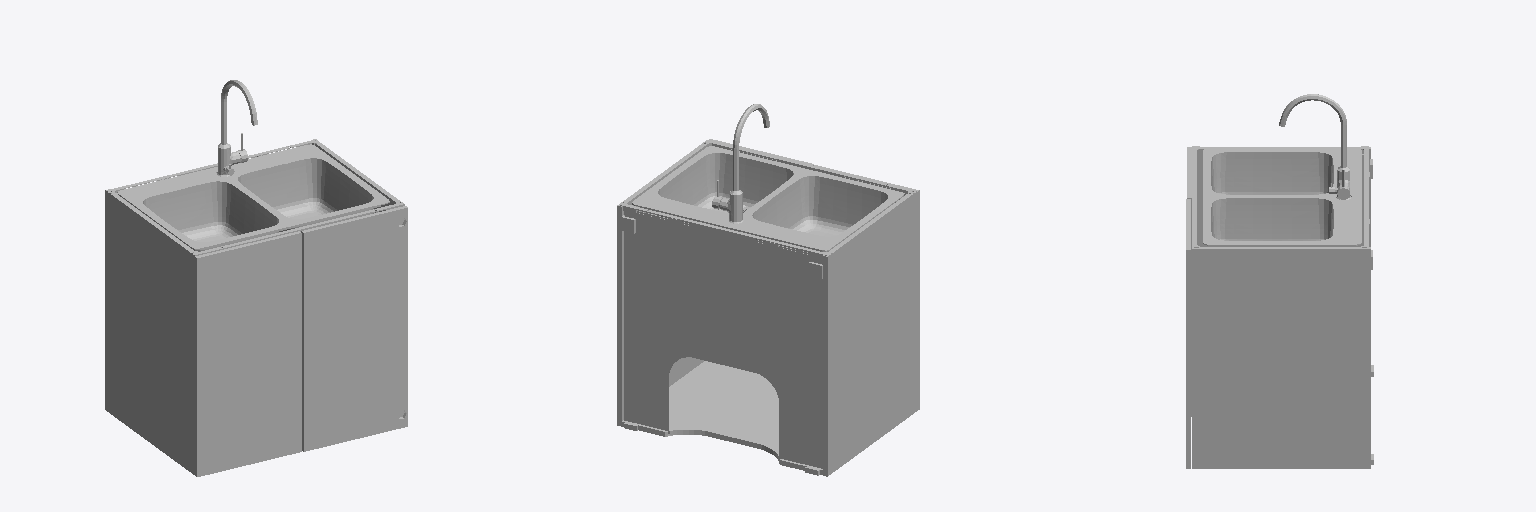
3 views of the same model, side by side, from view 1: azimuth 30°, elevation 25°; view 2: azimuth 150°, elevation 25°; view 3: azimuth 270°, elevation 25° (orthographic).
Parts seen in each view (by area): view 1: [number redacted].json, [number redacted] - Copy.json, [number redacted].json, [number redacted].json, [number redacted].json; view 2: [number redacted].json, [number redacted].json, [number redacted].json, [number redacted].json; view 3: [number redacted].json, [number redacted].json, [number redacted] - Copy.json, [number redacted].json.
Part boxes in pixels (left/top/right/bottom): [number redacted].json: left=195, top=231, right=301, bottom=476; [number redacted] - Copy.json: left=301, top=206, right=407, bottom=451; [number redacted].json: left=105, top=139, right=404, bottom=474; [number redacted].json: left=117, top=144, right=389, bottom=251; [number redacted].json: left=217, top=80, right=257, bottom=176; [number redacted].json: left=617, top=140, right=916, bottom=476; [number redacted].json: left=632, top=146, right=903, bottom=252; [number redacted].json: left=712, top=104, right=769, bottom=223; [number redacted].json: left=814, top=165, right=919, bottom=410; [number redacted].json: left=1192, top=146, right=1373, bottom=468; [number redacted].json: left=1203, top=148, right=1361, bottom=246; [number redacted] - Copy.json: left=1186, top=199, right=1190, bottom=468; [number redacted].json: left=1279, top=94, right=1350, bottom=199.
Size of the model in its own units: 80 by 118 by 62.